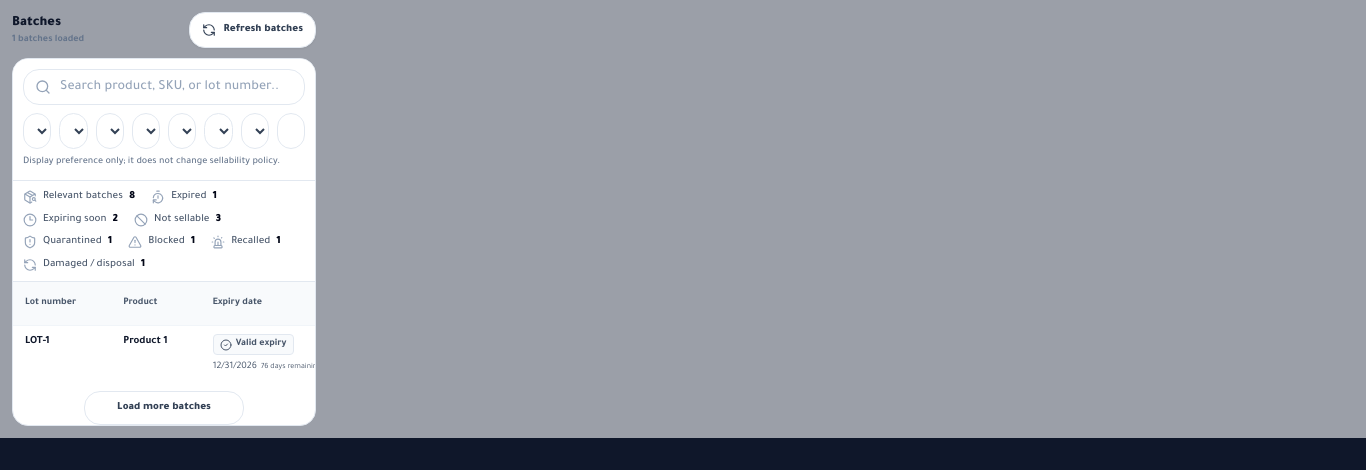
Test case: CP2 Batches Dashboard batch-first contract › appends continuation without duplicate batch_id and does not refresh summary
Click the button "Load more batches": (164, 408) top-left (84, 390), bottom-right (244, 425)
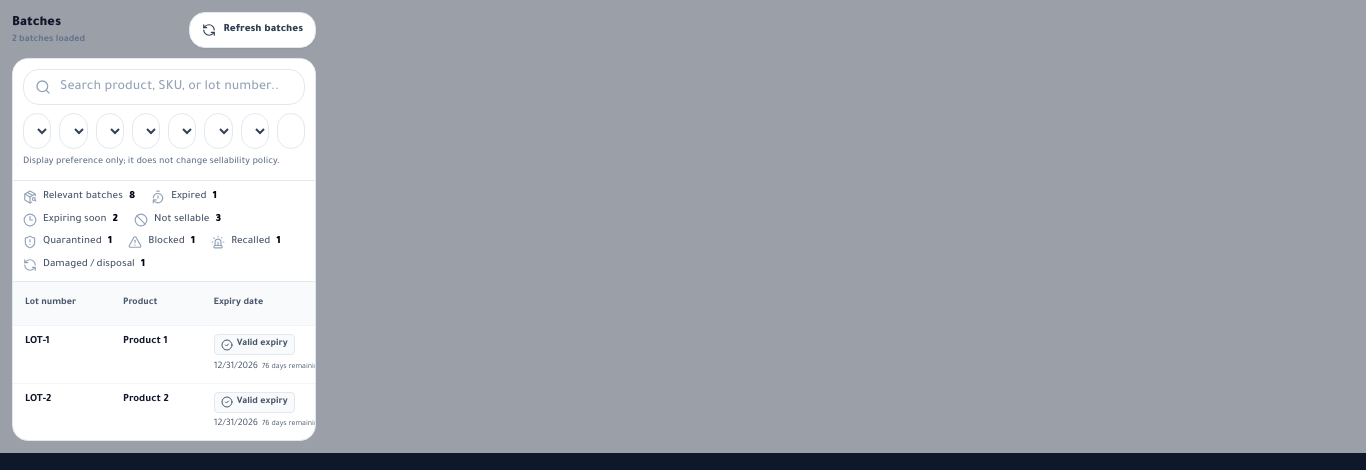
Expected: the text "Product 1" is shown 2 times
